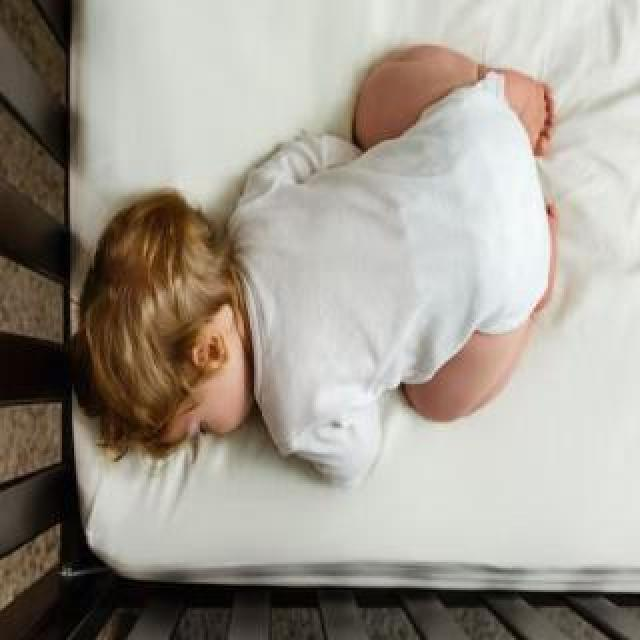baby: (70, 45, 558, 485)
